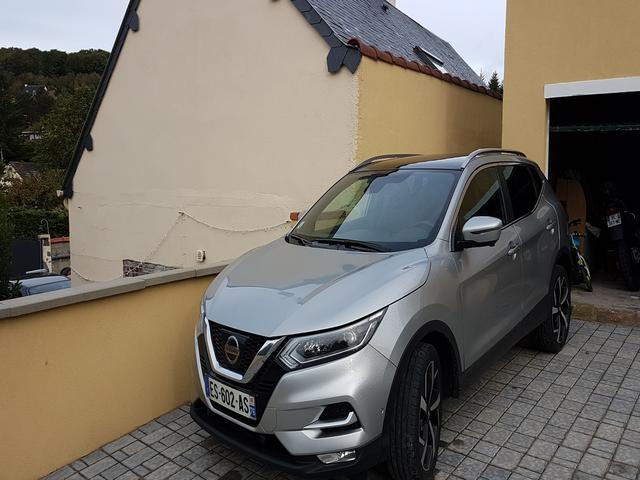Quashquai: (199, 374, 265, 423)
